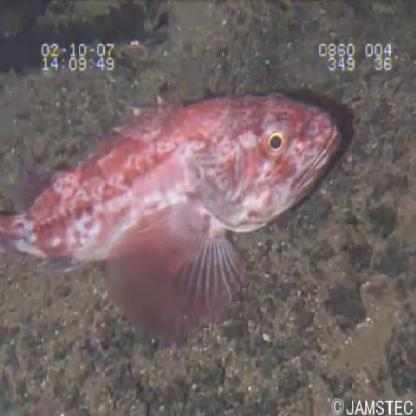Bio: (1, 84, 349, 356)
